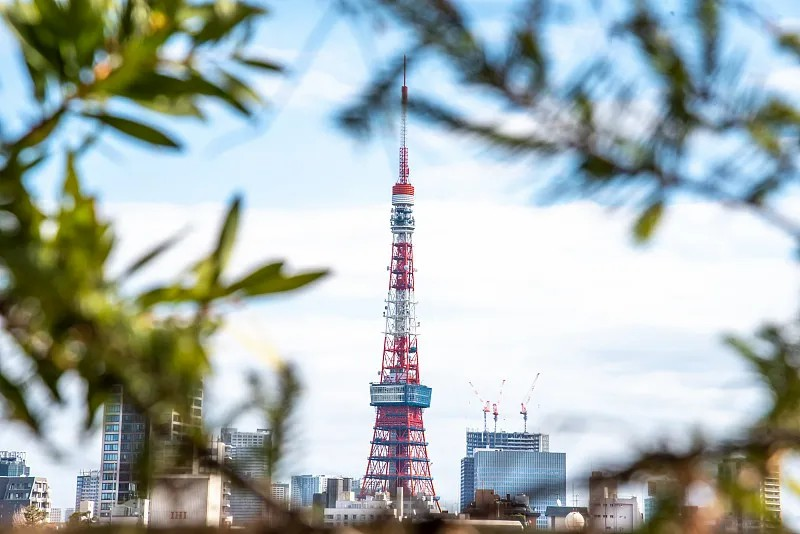Tokyo: (359, 54, 441, 517)
